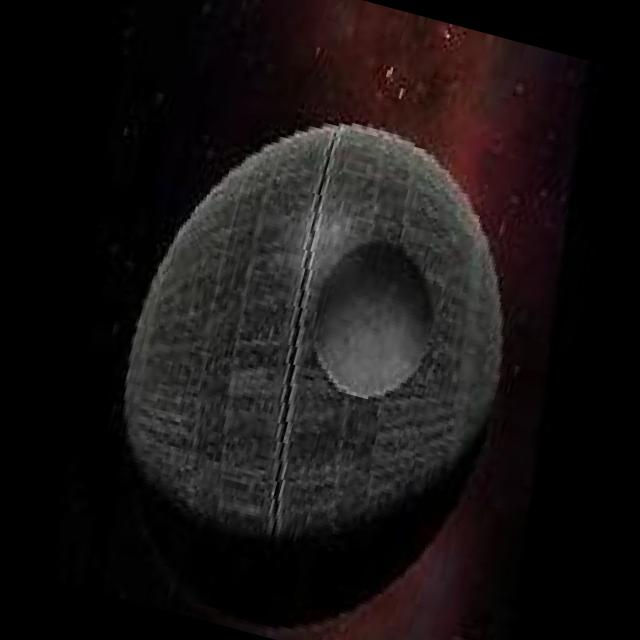Death Star: (80, 70, 560, 607)
